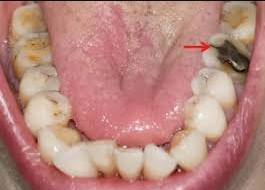LL1BC_decay: (185, 95, 226, 139)
LL1M_decay: (204, 33, 250, 77)
LL2BC_decay: (192, 67, 238, 112)
LL2M_decay: (220, 2, 256, 37)
LLCI_healthy: (116, 146, 143, 179)
LLC_healthy: (172, 129, 207, 167)
LLLI_healthy: (143, 145, 175, 179)
LR1BC_decay: (24, 92, 71, 130)
LR1M_decay: (11, 33, 52, 69)
LR2BC_decay: (20, 65, 61, 96)
LR2M_decay: (10, 5, 49, 34)
LRCI_healthy: (87, 142, 116, 179)
LRC_healthy: (39, 124, 75, 161)
LRLI_healthy: (57, 143, 88, 177)
